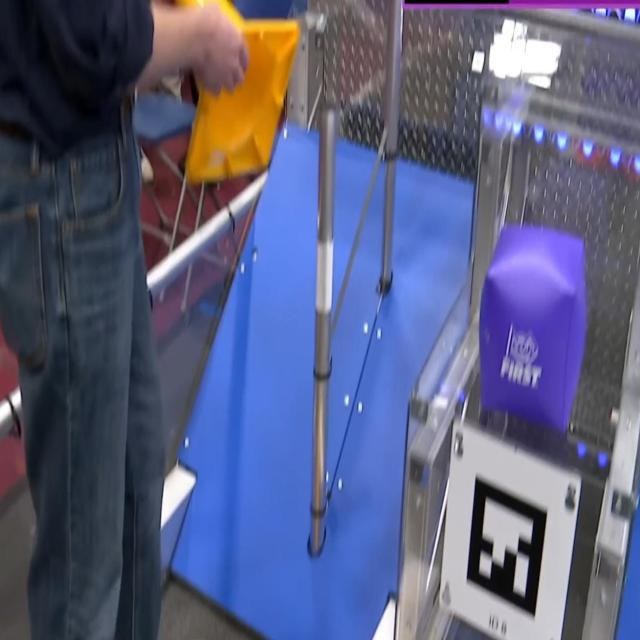frc_cone: (171, 0, 300, 187)
frc_cube: (478, 231, 584, 428)
